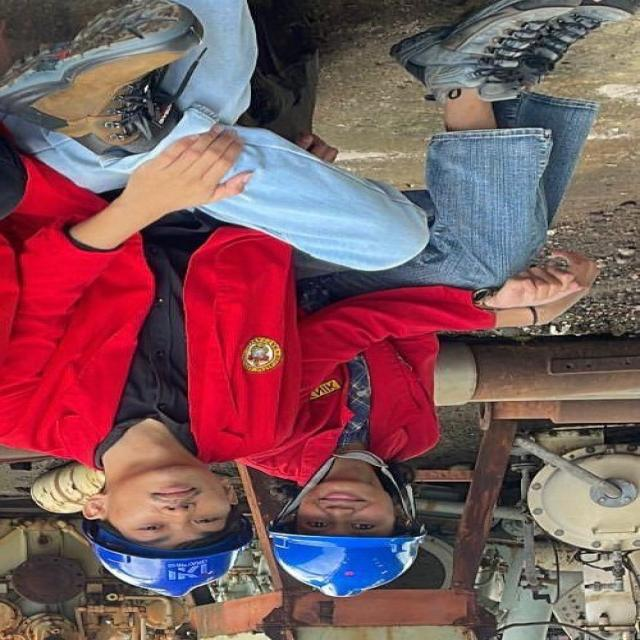safetyhelmet: (92, 475, 266, 591), (279, 488, 430, 605)
